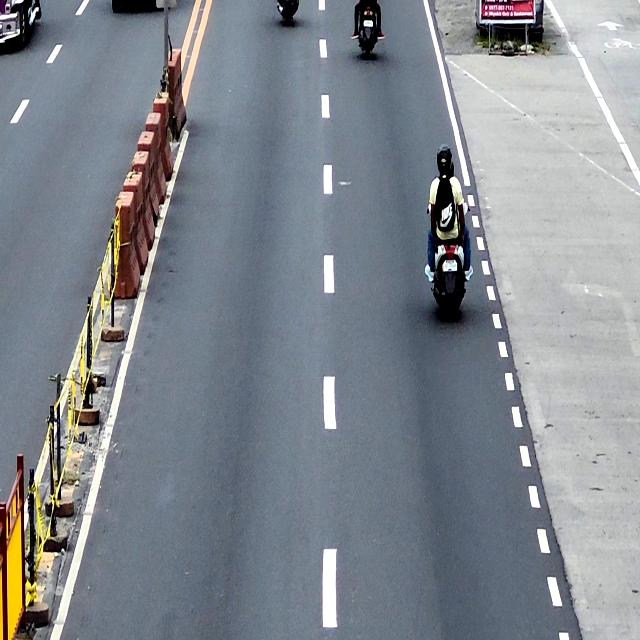License-Plate: (442, 260, 458, 272), (363, 20, 373, 27)
Motorcycle: (430, 201, 471, 323), (355, 0, 380, 57)
